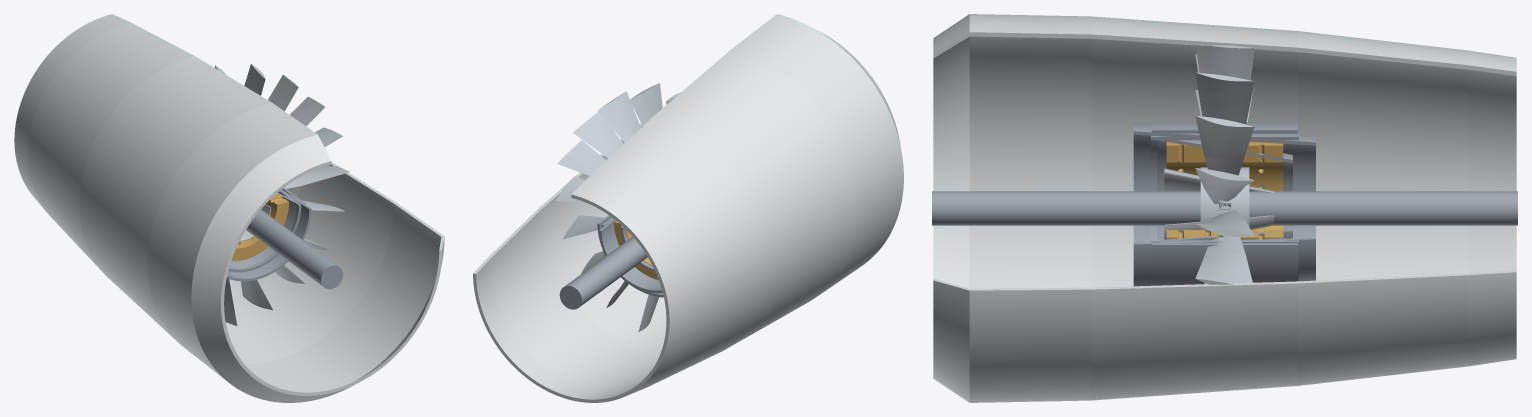
The model's file is turbofan-cutaway.glb.
3 views of the same model, side by side, from view 1: azimuth 30°, elevation 25°; view 2: azimuth 150°, elevation 25°; view 3: azimuth 270°, elevation 25° (orthographic). The views are drawn at different scales.
Parts seen in each view (by area): view 1: Nacelle, Fan_20_blades, Inner_shaft, Compressor_case, Perforated_combustor_liner, Core_nozzle, Turbine_case; view 2: Nacelle, Fan_20_blades, Inner_shaft, Compressor_case, Perforated_combustor_liner; view 3: Nacelle, Inner_shaft, Fan_20_blades, Compressor_case, Combustor_case, Perforated_combustor_liner, Core_nozzle, Tail_cone, Turbine_case.
Part boxes in pixels (box(x1,y1,x2,y2)): Nacelle: box(14, 14, 444, 402); Fan_20_blades: box(215, 64, 349, 325); Inner_shaft: box(246, 209, 343, 289); Compressor_case: box(227, 189, 311, 281); Perforated_combustor_liner: box(231, 194, 288, 261); Core_nozzle: box(229, 193, 297, 268); Turbine_case: box(228, 191, 301, 272); Nacelle: box(473, 14, 903, 402); Fan_20_blades: box(556, 83, 680, 332); Inner_shaft: box(559, 236, 647, 309); Compressor_case: box(599, 218, 662, 293); Perforated_combustor_liner: box(614, 221, 658, 280); Nacelle: box(933, 14, 1516, 402); Inner_shaft: box(932, 191, 1517, 225); Fan_20_blades: box(1195, 45, 1254, 284); Compressor_case: box(1133, 123, 1315, 286); Combustor_case: box(1152, 122, 1297, 285); Perforated_combustor_liner: box(1166, 141, 1283, 240); Core_nozzle: box(1157, 137, 1292, 241); Tail_cone: box(1164, 168, 1274, 239); Turbine_case: box(1151, 129, 1298, 281).
Size of the model in its own units: 52430 by 52430 by 78968.
